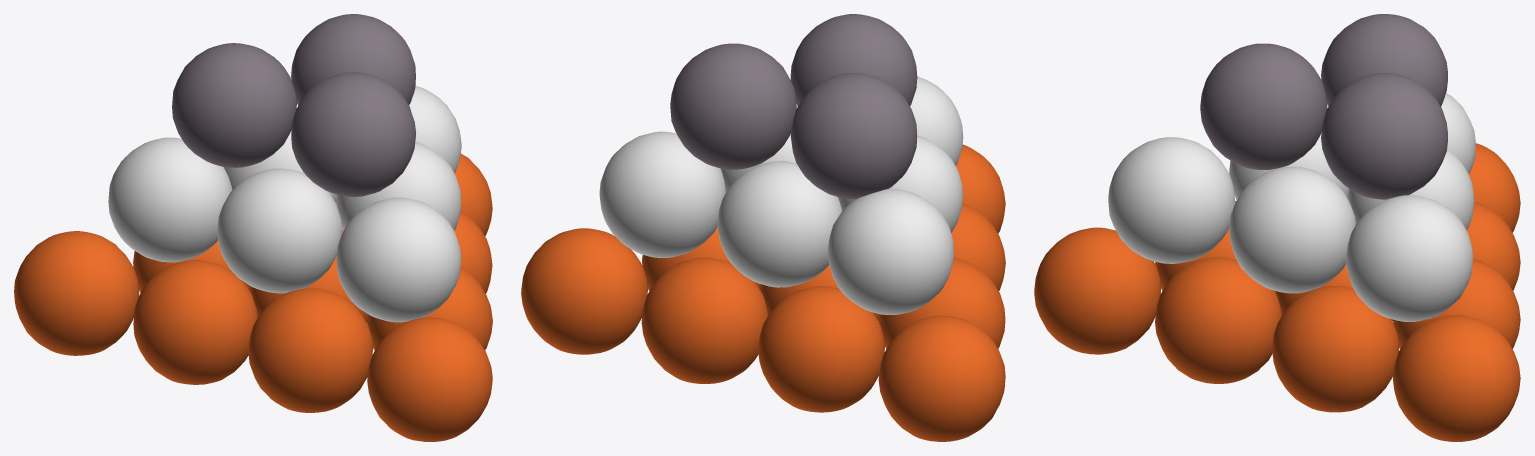
The model's file is estructura cubica compacta.glb.
3 views of the same model, side by side, from view 1: azimuth 30°, elevation 25°; view 2: azimuth 150°, elevation 25°; view 3: azimuth 270°, elevation 25° (orthographic).
Visible parts, largest first — view 1: Sphere.423_Sphere.439, Sphere.429_Sphere.446, Sphere.436_Sphere.461, Sphere.432_Sphere.450, Sphere.424_Sphere.440, Sphere.437_Sphere.462, Sphere.433_Sphere.451, Sphere.425_Sphere.441, Sphere.434_Sphere.452, Sphere.426_Sphere.459, Sphere.430_Sphere.448, Sphere.420_Sphere.436 (+6 smaller); view 2: Sphere.429_Sphere.446, Sphere.419_Sphere.443, Sphere.426_Sphere.459, Sphere.434_Sphere.452, Sphere.437_Sphere.462, Sphere.428_Sphere.445, Sphere.427_Sphere.444, Sphere.431_Sphere.449, Sphere.440_Sphere.458, Sphere.436_Sphere.461, Sphere.425_Sphere.441, Sphere.433_Sphere.451 (+6 smaller); view 3: Sphere.419_Sphere.443, Sphere.431_Sphere.449, Sphere.426_Sphere.459, Sphere.436_Sphere.461, Sphere.432_Sphere.450, Sphere.430_Sphere.448, Sphere.423_Sphere.439, Sphere.421_Sphere.437, Sphere.420_Sphere.436, Sphere.437_Sphere.462, Sphere.427_Sphere.444, Sphere.440_Sphere.458 (+6 smaller).
Boxes of the visible parts, <box> form: Sphere.423_Sphere.439: <box>367,317,492,441</box>; Sphere.429_Sphere.446: <box>14,231,139,355</box>; Sphere.436_Sphere.461: <box>291,72,415,196</box>; Sphere.432_Sphere.450: <box>336,197,461,322</box>; Sphere.424_Sphere.440: <box>248,288,372,412</box>; Sphere.437_Sphere.462: <box>172,43,296,167</box>; Sphere.433_Sphere.451: <box>217,168,342,293</box>; Sphere.425_Sphere.441: <box>133,260,257,384</box>; Sphere.434_Sphere.452: <box>108,137,232,262</box>; Sphere.426_Sphere.459: <box>291,14,415,105</box>; Sphere.430_Sphere.448: <box>336,142,461,230</box>; Sphere.420_Sphere.436: <box>367,267,492,350</box>; Sphere.429_Sphere.446: <box>878,315,1005,441</box>; Sphere.419_Sphere.443: <box>521,228,647,354</box>; Sphere.426_Sphere.459: <box>670,43,796,169</box>; Sphere.434_Sphere.452: <box>827,188,953,314</box>; Sphere.437_Sphere.462: <box>790,73,917,199</box>; Sphere.428_Sphere.445: <box>758,286,884,412</box>; Sphere.427_Sphere.444: <box>641,257,767,383</box>; Sphere.431_Sphere.449: <box>599,131,725,257</box>; Sphere.440_Sphere.458: <box>717,161,842,287</box>; Sphere.436_Sphere.461: <box>790,14,917,106</box>; Sphere.425_Sphere.441: <box>878,258,1005,348</box>; Sphere.433_Sphere.451: <box>838,135,962,232</box>; Sphere.419_Sphere.443: <box>1393,315,1520,441</box>; Sphere.431_Sphere.449: <box>1346,195,1472,321</box>; Sphere.426_Sphere.459: <box>1321,73,1447,199</box>; Sphere.436_Sphere.461: <box>1200,43,1327,169</box>; Sphere.432_Sphere.450: <box>1108,137,1235,263</box>; Sphere.430_Sphere.448: <box>1229,166,1355,293</box>; Sphere.423_Sphere.439: <box>1034,227,1160,354</box>; Sphere.421_Sphere.437: <box>1272,286,1399,412</box>; Sphere.420_Sphere.436: <box>1155,257,1281,383</box>; Sphere.437_Sphere.462: <box>1321,14,1447,106</box>; Sphere.427_Sphere.444: <box>1393,258,1520,348</box>; Sphere.440_Sphere.458: <box>1347,149,1474,229</box>.
Size of the model in its own units: 1.64 by 1.01 by 1.48.
